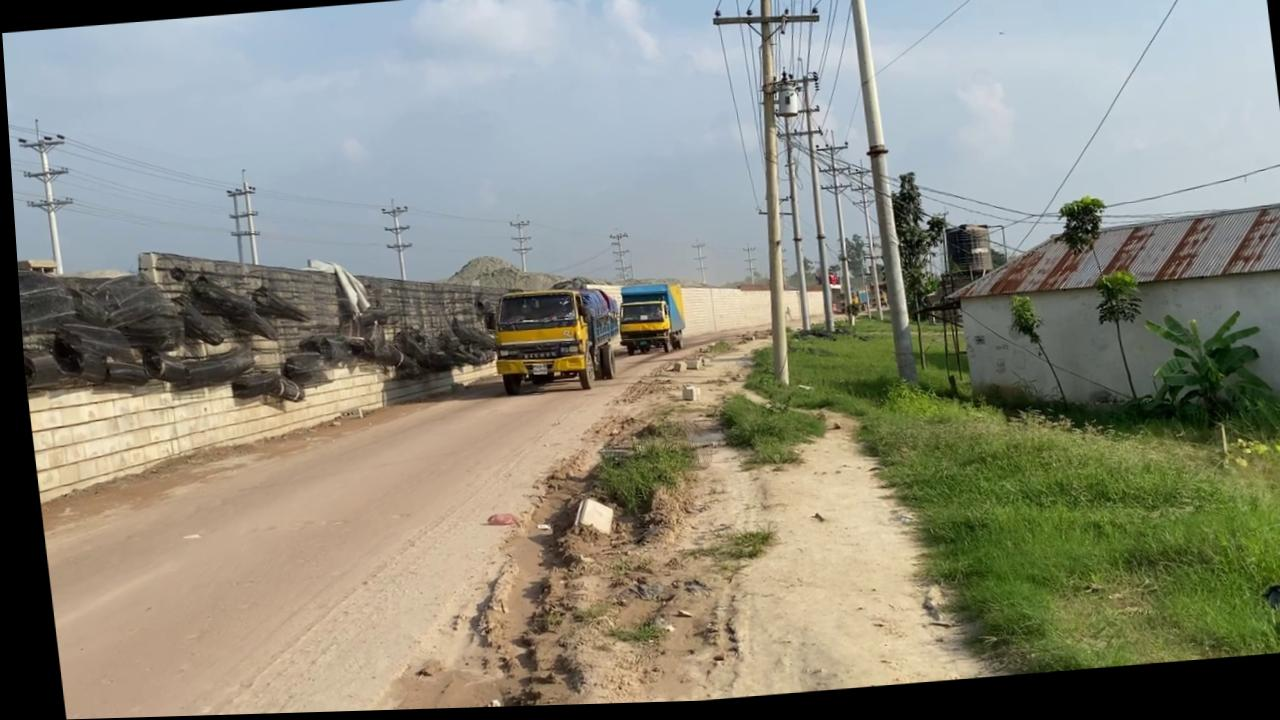Obstacle: (562, 498, 609, 541), (673, 387, 695, 406)
Pole: (706, 0, 856, 393), (844, 0, 913, 392), (768, 77, 817, 337), (791, 65, 835, 338)
Rickshaw: (444, 319, 987, 710)
Traffic-sign: (1134, 312, 1267, 437), (1085, 274, 1147, 410), (1048, 199, 1106, 263)
Tree: (482, 285, 619, 399), (607, 283, 683, 360)
Upstairs: (12, 224, 518, 424)
